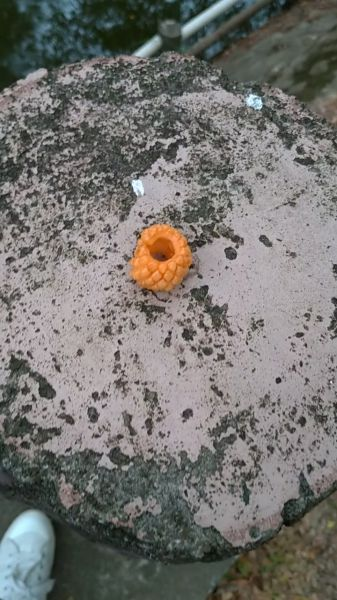eggs: (125, 219, 194, 294)
